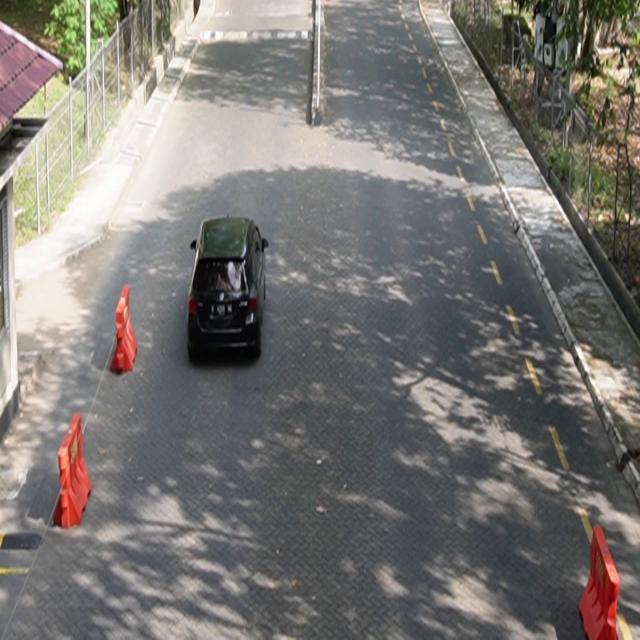car: (188, 214, 270, 362)
